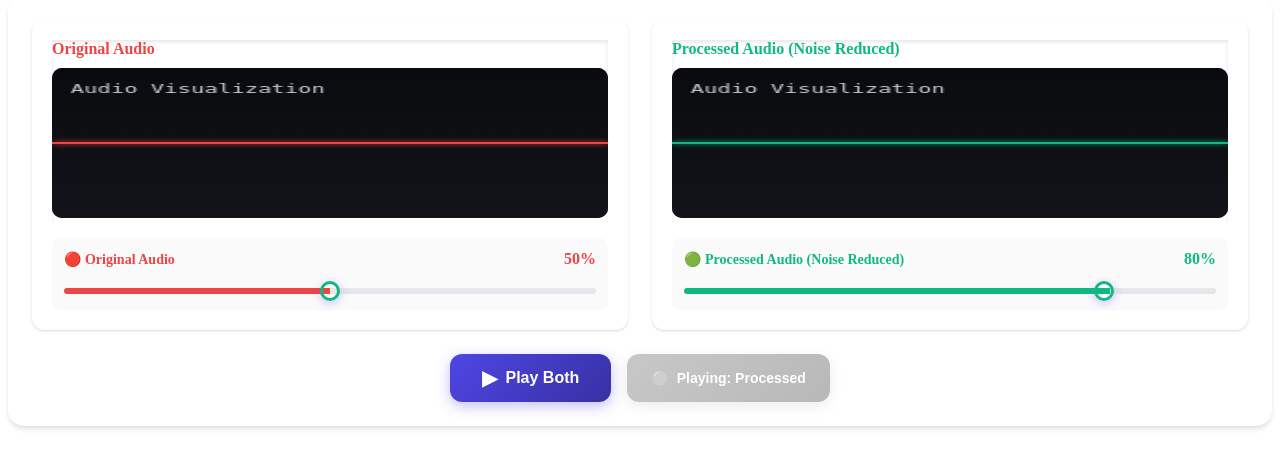
Test: SyncedWaveforms › toggles between original and processed audio
The width and height of the screenshot is (1280, 468).
# First play the audio
Click the button with aria-label "Play synchronized playback" at (531,378), box [450, 354, 611, 402]
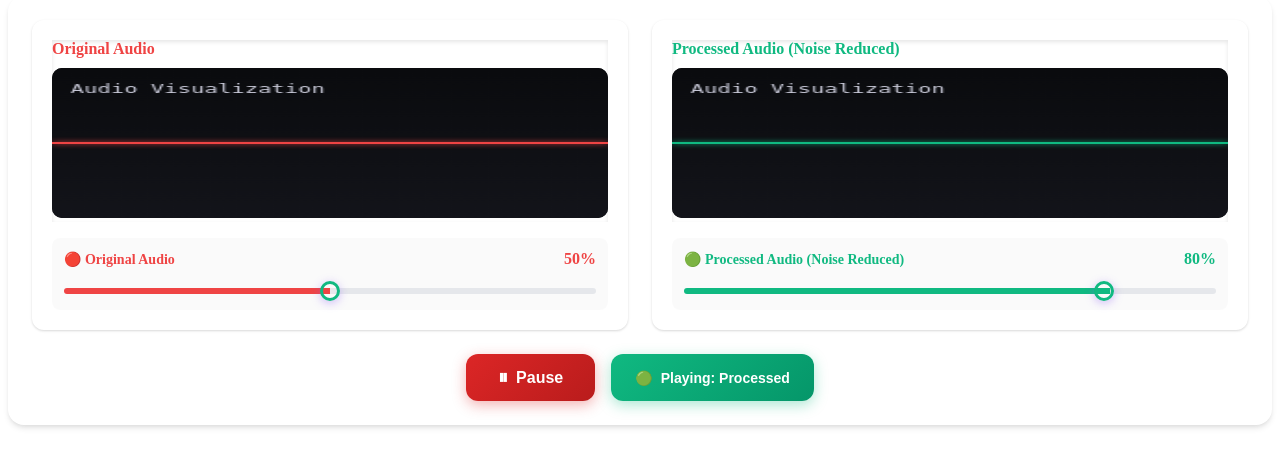
# Then toggle audio type
Click the button with aria-label "Switch to original audio" at (713,378), box [611, 354, 814, 401]
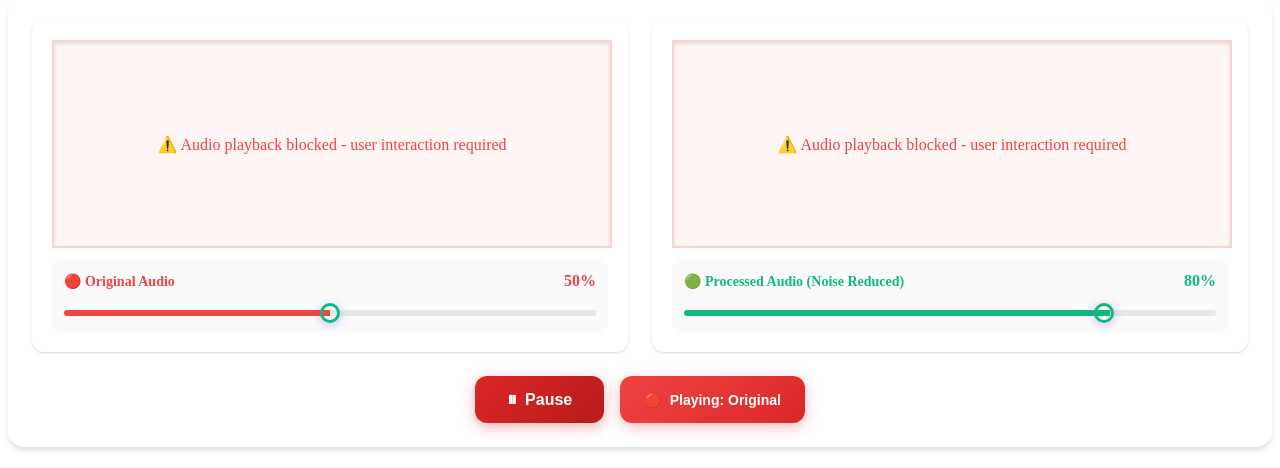
Expected: the text "Playing: Original" is shown, [670, 392, 781, 408]
